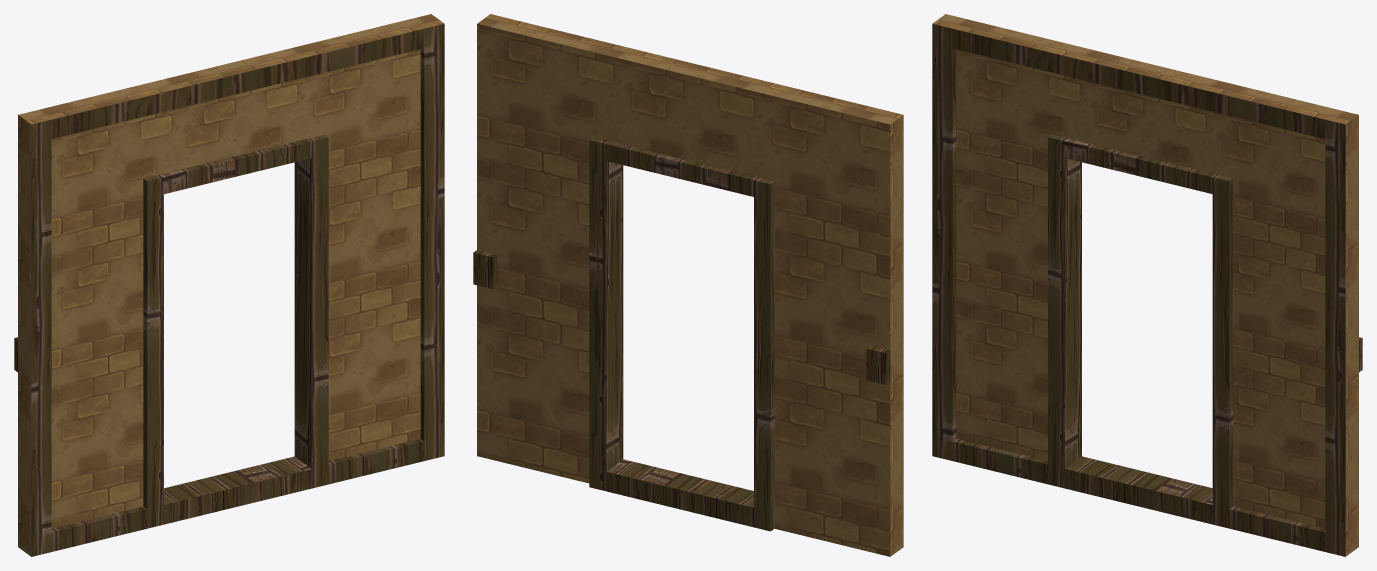
File: door_wall.fbx
3 views of the same model, side by side, from view 1: azimuth 30°, elevation 25°; view 2: azimuth 150°, elevation 25°; view 3: azimuth 330°, elevation 25° (orthographic).
Parts seen in each view (by area): view 1: door_wall; view 2: door_wall; view 3: door_wall.
Part boxes in pixels (left/top/right/bottom): door_wall: left=14, top=14, right=444, bottom=556; door_wall: left=473, top=14, right=903, bottom=556; door_wall: left=932, top=14, right=1362, bottom=556.
Size of the model in its own units: 250 by 250 by 18.
